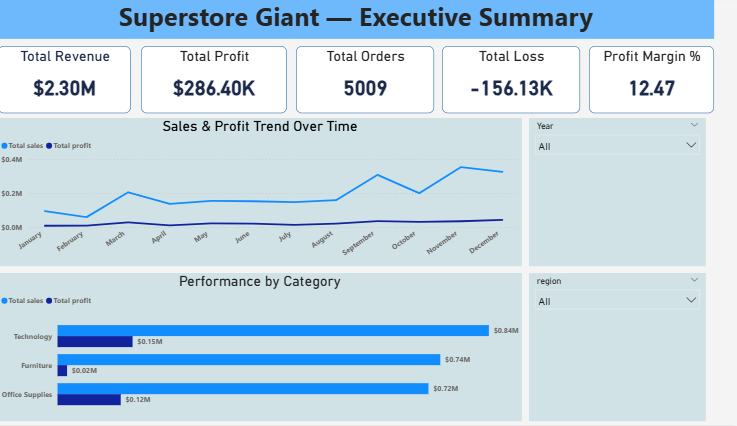

The page's visual inventory and layout, read from the dashboard file:
{"tool":"powerbi","page":{"name":"Executive Summary","canvas":[1280,720],"ordinal":0},"visuals":[{"type":"card","title":"Total Revenue","fields":{"Values":["Sum(Superstore_cleaned.sales)"]},"box":[38.6,84,223.4,112.5],"z":0},{"type":"card","title":"Total Profit","fields":{"Values":["Sum(Superstore_cleaned.profit)"]},"box":[278.8,84,245.2,112.5],"z":1000},{"type":"card","title":"Total Orders","fields":{"Values":["Count(Superstore_cleaned.order_id)"]},"box":[539.2,84,231.8,112.5],"z":2000},{"type":"card","title":"Profit Margin %","fields":{"Values":["Superstore_cleaned.Profit Margin %"]},"box":[1031.4,84,210,112.5],"z":3000},{"type":"lineChart","title":"Sales & Profit Trend Over Time","fields":{"Category":["Superstore_cleaned.order_date.Variation.Date Hierarchy.Month"],"Y":["Sum(Superstore_cleaned.sales)","Sum(Superstore_cleaned.profit)"]},"box":[38.6,204.9,880.2,248.6],"z":4000},{"type":"clusteredBarChart","title":"Performance by Category","fields":{"Category":["Superstore_cleaned.category"],"Y":["Sum(Superstore_cleaned.sales)","Sum(Superstore_cleaned.profit)"]},"box":[38.6,465.3,880.2,248.6],"z":5000},{"type":"slicer","fields":{"Values":["Superstore_cleaned.order_date.Variation.Date Hierarchy.Year"]},"box":[930.6,204.9,297.3,248.6],"z":6000},{"type":"slicer","fields":{"Values":["Superstore_cleaned.region"]},"box":[930.6,465.3,297.3,248.6],"z":7000},{"type":"textbox","box":[38.6,0,1202.7,72.2],"z":8000},{"type":"card","title":"Total Loss","fields":{"Values":["Superstore_cleaned.Total Loss"]},"box":[784.5,84,231.8,112.5],"z":8001}]}

Visuals, with their boxes in screenshot pixels (x1, y1, x2, y2), scaled from the page's 1280x720 canvas onto the 737x426 screenshot:
"Total Revenue" card: bbox=(22, 50, 151, 116)
"Total Profit" card: bbox=(161, 50, 302, 116)
"Total Orders" card: bbox=(310, 50, 444, 116)
"Profit Margin %" card: bbox=(594, 50, 715, 116)
"Sales & Profit Trend Over Time" lineChart: bbox=(22, 121, 529, 268)
"Performance by Category" clusteredBarChart: bbox=(22, 275, 529, 422)
slicer - Superstore_cleaned.order_date.Variation.Date Hierarchy.Year: bbox=(536, 121, 707, 268)
slicer - Superstore_cleaned.region: bbox=(536, 275, 707, 422)
textbox: bbox=(22, 0, 715, 43)
"Total Loss" card: bbox=(452, 50, 585, 116)
